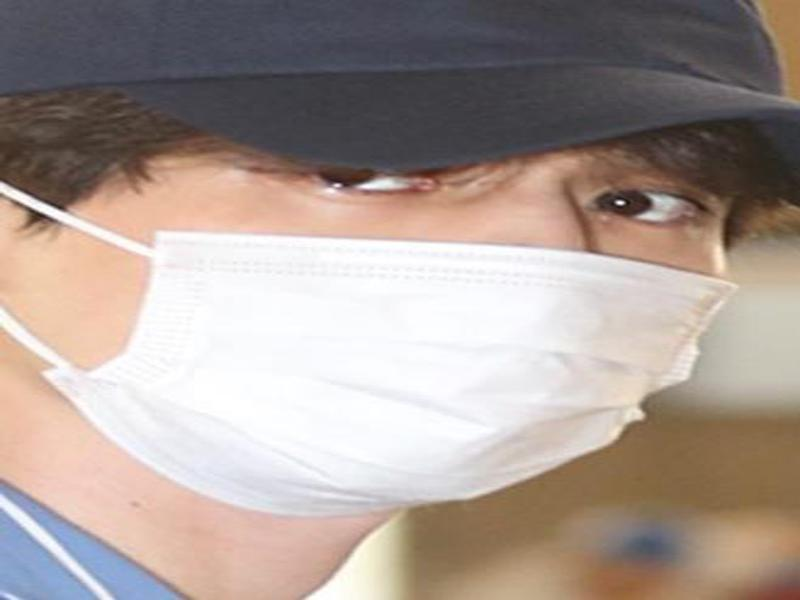with_mask: (1, 1, 747, 524)
